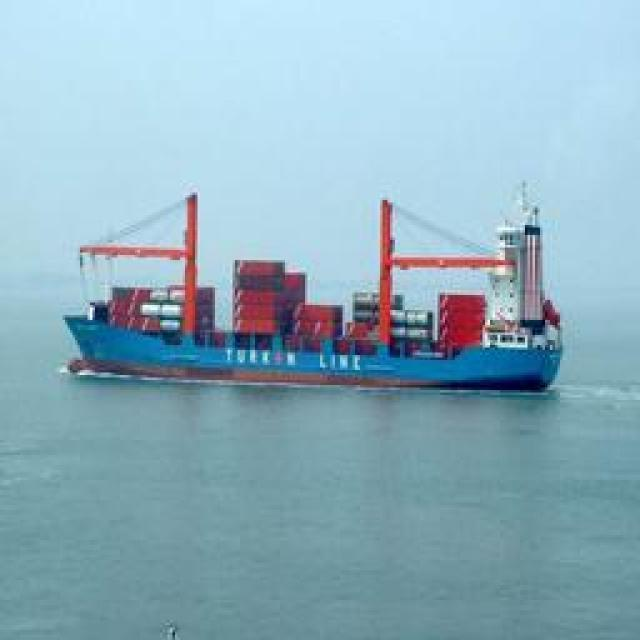ship2: (61, 177, 572, 397)
